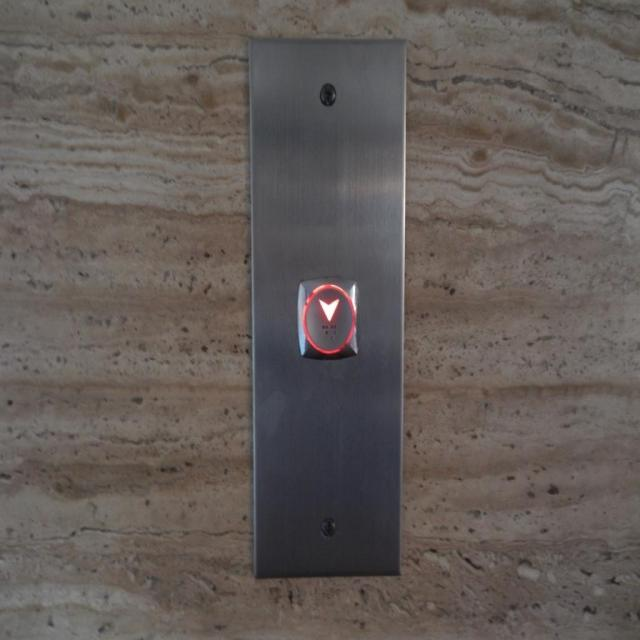down: (298, 277, 360, 361)
